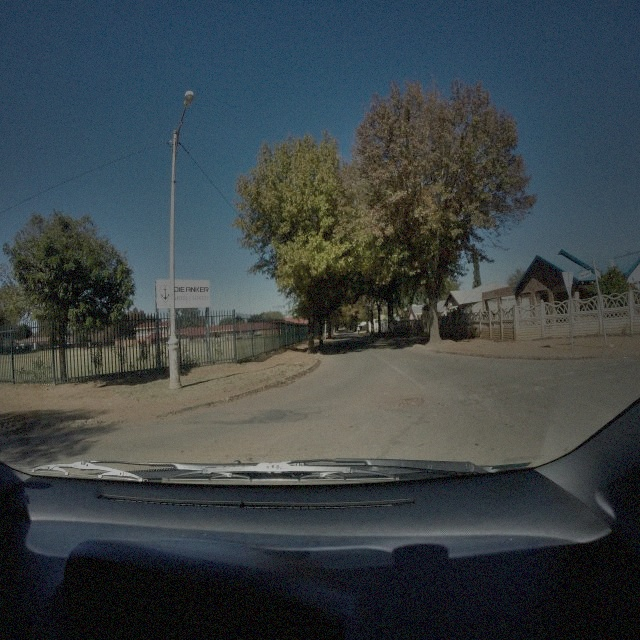pothole: (398, 394, 425, 409)
